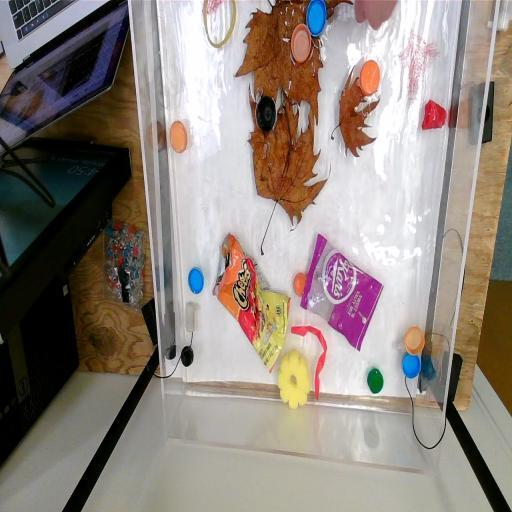Bottle Cap: (252, 88, 282, 136), (358, 52, 382, 104), (288, 22, 314, 66), (302, 0, 330, 38), (166, 116, 190, 158), (400, 346, 422, 384), (403, 322, 426, 358), (186, 261, 206, 300), (364, 362, 384, 396), (290, 268, 308, 296), (181, 345, 196, 369)
Cone Cap: (420, 96, 450, 135)
Leaf: (246, 84, 326, 256), (237, 0, 338, 115), (332, 65, 378, 163)
Netting: (395, 27, 438, 108), (203, 0, 224, 18)
Plastic Bag: (210, 228, 292, 379), (299, 228, 385, 354)
Plastic Strand: (288, 312, 330, 404), (200, 0, 238, 51)
Sponge: (276, 346, 314, 412)
